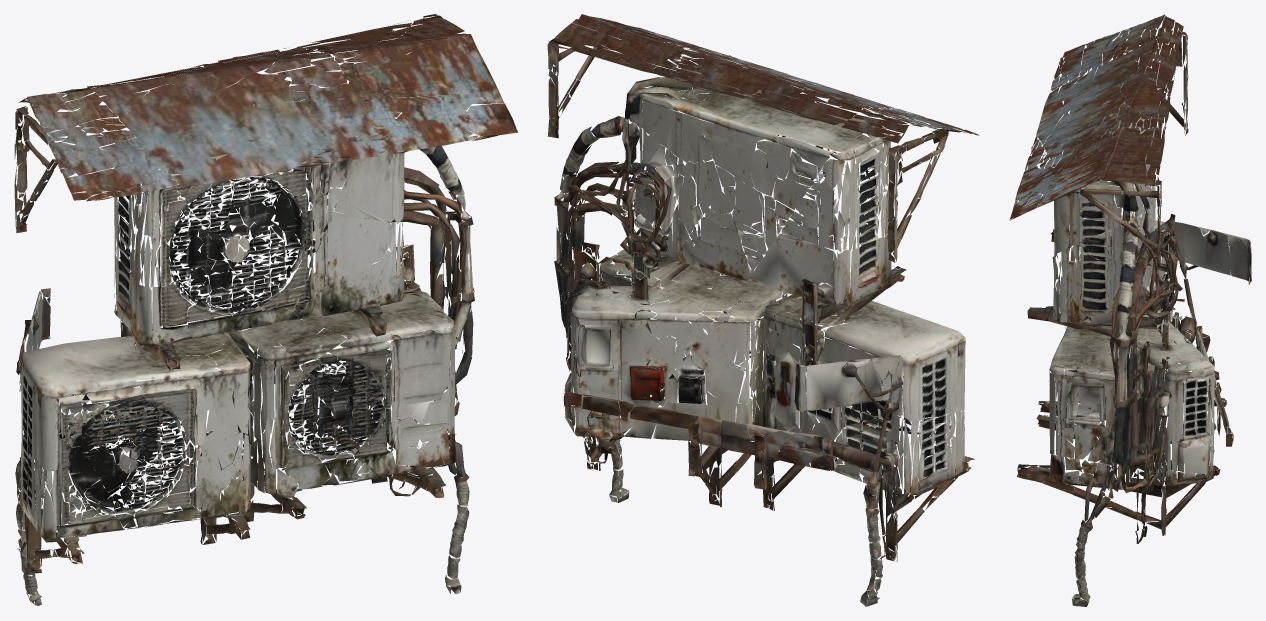
File: m_ac_cluster.glb
3 views of the same model, side by side, from view 1: azimuth 30°, elevation 25°; view 2: azimuth 150°, elevation 25°; view 3: azimuth 270°, elevation 25° (orthographic). The views are drawn at different scales.
Parts seen in each view (by area): view 1: tripo_node_6949d8a9-3798-4e74-a973-50b2bc00a0c5; view 2: tripo_node_6949d8a9-3798-4e74-a973-50b2bc00a0c5; view 3: tripo_node_6949d8a9-3798-4e74-a973-50b2bc00a0c5.
Boxes of the visible parts, bbox=[...] form: tripo_node_6949d8a9-3798-4e74-a973-50b2bc00a0c5: bbox=[14, 14, 517, 605]; tripo_node_6949d8a9-3798-4e74-a973-50b2bc00a0c5: bbox=[547, 14, 979, 606]; tripo_node_6949d8a9-3798-4e74-a973-50b2bc00a0c5: bbox=[1009, 14, 1251, 606].
Size of the model in its own units: 1.65 by 1.95 by 0.9664.
Materials: 1 (1 with a texture image).
